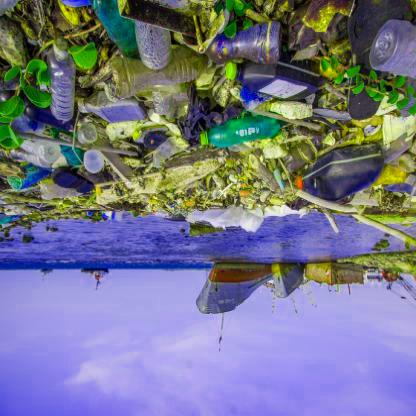Metal: (370, 23, 415, 78)
Plastic: (296, 140, 389, 199), (225, 54, 321, 106), (109, 52, 209, 96), (89, 0, 143, 58), (210, 22, 286, 63), (201, 117, 284, 147), (53, 55, 78, 120), (141, 18, 172, 70), (11, 135, 63, 163), (8, 166, 55, 192), (77, 120, 104, 147), (83, 148, 107, 173)
